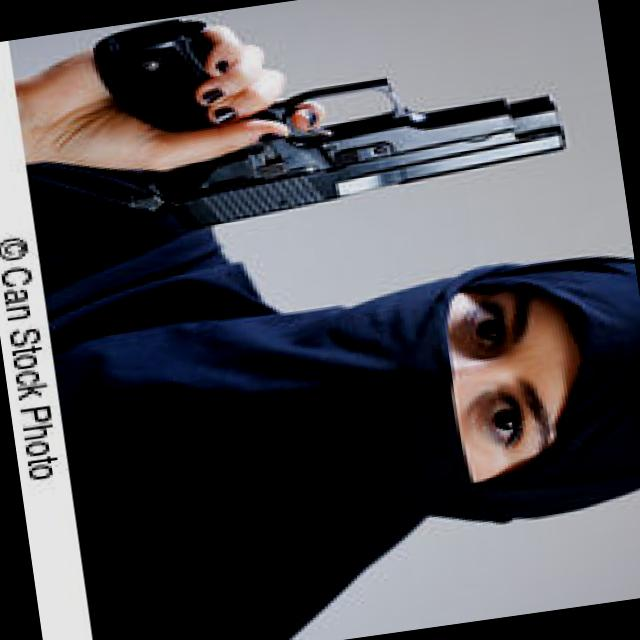handgun: (86, 0, 574, 242)
